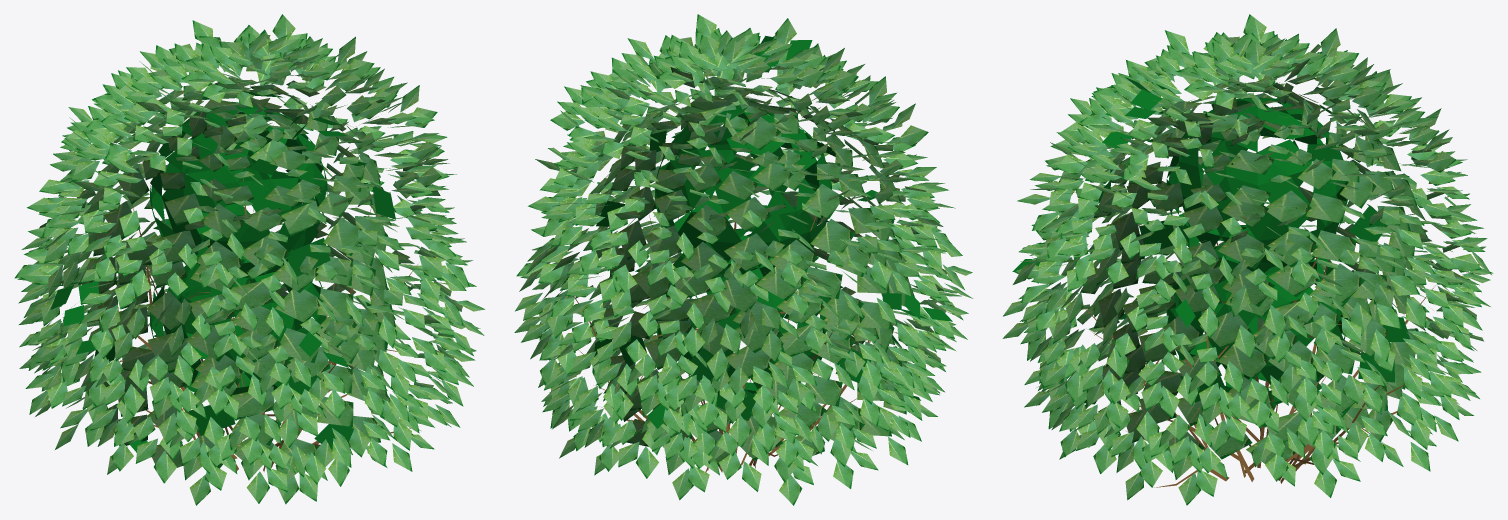
File: tree4.glb
The picture shows the model from 3 angles, left to right: view 1: azimuth 30°, elevation 25°; view 2: azimuth 150°, elevation 25°; view 3: azimuth 270°, elevation 25°; orthographic projection. The views are drawn at different scales.
Parts seen in each view (by area): view 1: Tree4; view 2: Tree4; view 3: Tree4.
Part boxes in pixels (x1,y1,x2,y2): Tree4: (14, 14, 484, 505); Tree4: (514, 14, 972, 505); Tree4: (1002, 14, 1493, 505).
Size of the model in its own units: 0.7071 by 0.7004 by 0.7522.
2 materials, 1 textured.
